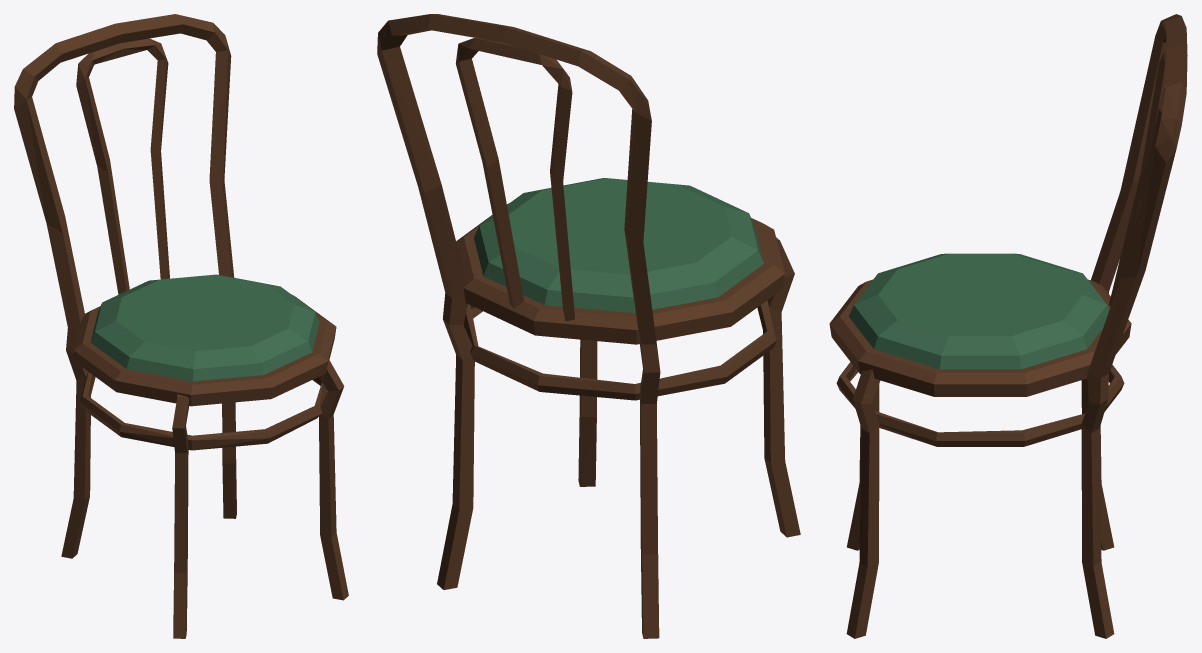
Rendered from cafe_chair_bistro.fbx.
3 views of the same model, side by side, from view 1: azimuth 30°, elevation 25°; view 2: azimuth 150°, elevation 25°; view 3: azimuth 270°, elevation 25° (orthographic). The views are drawn at different scales.
Visible parts, largest first — view 1: cafe_chair_bistro_LOD0; view 2: cafe_chair_bistro_LOD0; view 3: cafe_chair_bistro_LOD0.
Part boxes in pixels (box(x1,y1,x2,y2)): cafe_chair_bistro_LOD0: box(14, 14, 348, 638); cafe_chair_bistro_LOD0: box(377, 14, 800, 638); cafe_chair_bistro_LOD0: box(829, 14, 1187, 638).
Size of what is drawn, in the model's own units: 0.4043 by 0.85 by 0.5039.
1 material, 1 textured.
